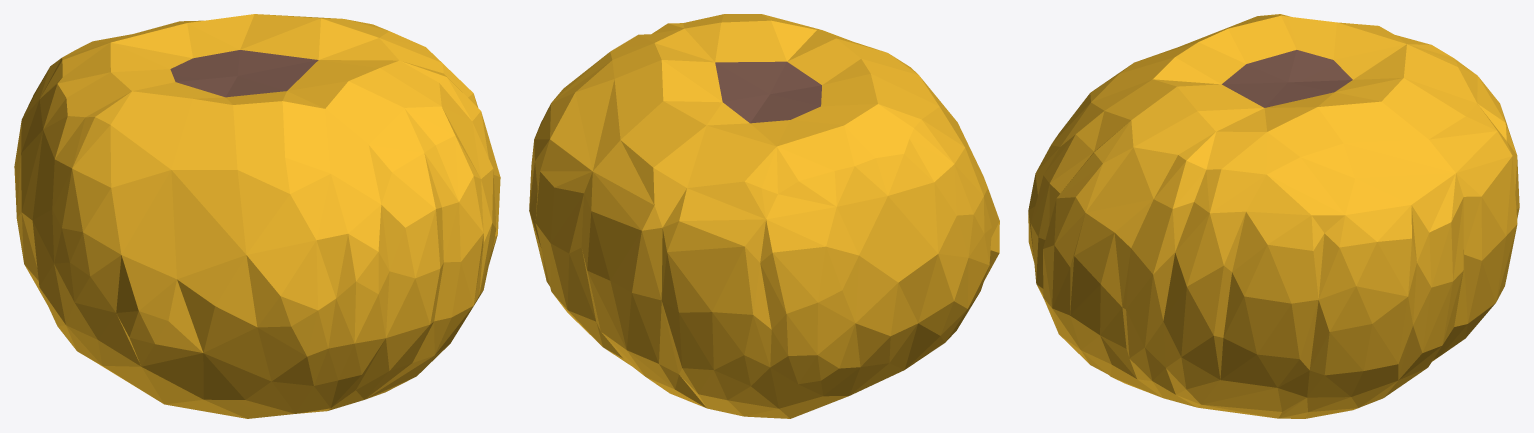
Rendered from fantasy_plant_031.fbx.
3 views of the same model, side by side, from view 1: azimuth 30°, elevation 25°; view 2: azimuth 150°, elevation 25°; view 3: azimuth 270°, elevation 25° (orthographic). The views are drawn at different scales.
Parts seen in each view (by area): view 1: fantasy_plant.031; view 2: fantasy_plant.031; view 3: fantasy_plant.031.
Part boxes in pixels (box(x1,y1,x2,y2)): fantasy_plant.031: box(14, 14, 500, 418); fantasy_plant.031: box(529, 14, 999, 418); fantasy_plant.031: box(1028, 14, 1519, 418).
Bounding box in the file's own units: 182 × 133 × 186.
1 material, 1 textured.
